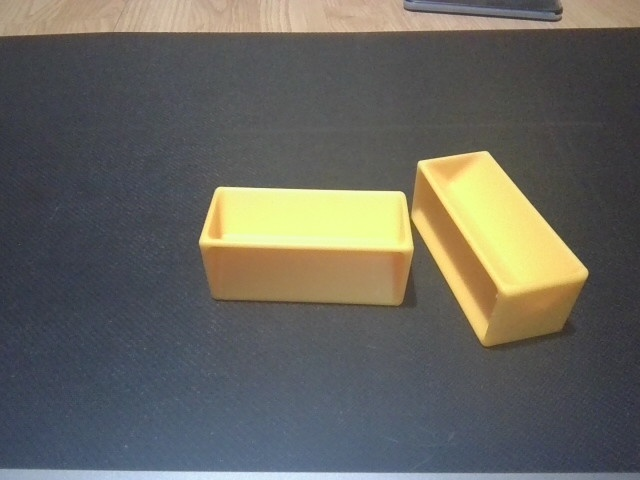YellowSample: (410, 148, 592, 350), (198, 181, 417, 311)
